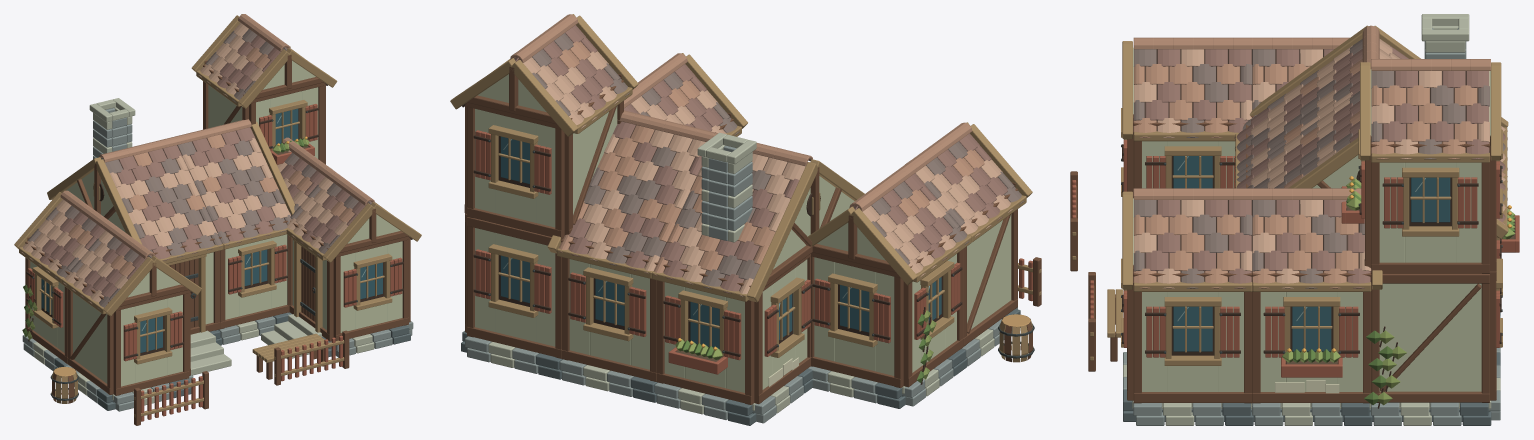
Rendered from family_cluster.glb.
3 renders of one model, left to right at view 1: azimuth 30°, elevation 25°; view 2: azimuth 150°, elevation 25°; view 3: azimuth 270°, elevation 25°, orthographic. The views are drawn at different scales.
Parts seen in each view (by area): view 1: family_cluster__062__roof_gable_4x2m__finish, family_cluster__063__roof_gable_4x2m__finish, family_cluster__067__roof_gable_2x2m__finish, family_cluster__074__roof_gable_2x2m__finish, family_cluster__066__roof_gable_2x2m__finish, family_cluster__070__roof_gable_2x2m__finish, family_cluster__036__wall_window_2m__finish, family_cluster__002__wall_window_2m__finish, family_cluster__036__wall_window_2m__structure, family_cluster__002__wall_window_2m__structure, family_cluster__028__wall_window_2m__finish, family_cluster__028__wall_window_2m__structure (+41 smaller); view 2: family_cluster__062__roof_gable_4x2m__finish, family_cluster__063__roof_gable_4x2m__finish, family_cluster__066__roof_gable_2x2m__finish, family_cluster__067__roof_gable_2x2m__finish, family_cluster__074__roof_gable_2x2m__finish, family_cluster__059__wall_window_2m__finish, family_cluster__010__wall_window_2m__finish, family_cluster__052__wall_window_2m__finish, family_cluster__052__wall_window_2m__structure, family_cluster__059__wall_window_2m__structure, family_cluster__032__wall_window_2m__finish, family_cluster__010__wall_window_2m__structure (+38 smaller); view 3: family_cluster__070__roof_gable_2x2m__finish, family_cluster__074__roof_gable_2x2m__finish, family_cluster__066__roof_gable_2x2m__finish, family_cluster__071__roof_gable_2x2m__finish, family_cluster__050__wall_plain_2m__finish, family_cluster__058__wall_window_2m__finish, family_cluster__038__wall_window_2m__finish, family_cluster__063__roof_gable_4x2m__finish, family_cluster__044__wall_window_2m__finish, family_cluster__058__wall_window_2m__structure, family_cluster__038__wall_window_2m__structure, family_cluster__044__wall_window_2m__structure (+35 smaller).
Part boxes in pixels (x1,y1,x2,y2): family_cluster__062__roof_gable_4x2m__finish: (174, 119, 290, 245); family_cluster__063__roof_gable_4x2m__finish: (99, 137, 221, 260); family_cluster__067__roof_gable_2x2m__finish: (20, 190, 109, 279); family_cluster__074__roof_gable_2x2m__finish: (198, 14, 290, 102); family_cluster__066__roof_gable_2x2m__finish: (63, 221, 155, 310); family_cluster__070__roof_gable_2x2m__finish: (287, 168, 374, 258); family_cluster__036__wall_window_2m__finish: (340, 241, 402, 332); family_cluster__002__wall_window_2m__finish: (121, 295, 182, 386); family_cluster__036__wall_window_2m__structure: (333, 236, 408, 340); family_cluster__002__wall_window_2m__structure: (113, 290, 189, 395); family_cluster__028__wall_window_2m__finish: (225, 234, 287, 319); family_cluster__028__wall_window_2m__structure: (219, 220, 289, 329); family_cluster__062__roof_gable_4x2m__finish: (559, 110, 715, 273); family_cluster__063__roof_gable_4x2m__finish: (654, 133, 812, 296); family_cluster__066__roof_gable_2x2m__finish: (908, 122, 1024, 237); family_cluster__067__roof_gable_2x2m__finish: (849, 163, 969, 277); family_cluster__074__roof_gable_2x2m__finish: (510, 14, 629, 128); family_cluster__059__wall_window_2m__finish: (475, 109, 555, 227); family_cluster__010__wall_window_2m__finish: (814, 257, 894, 375); family_cluster__052__wall_window_2m__finish: (475, 228, 555, 346); family_cluster__052__wall_window_2m__structure: (467, 217, 562, 358); family_cluster__059__wall_window_2m__structure: (467, 102, 564, 239); family_cluster__032__wall_window_2m__finish: (569, 259, 649, 369); family_cluster__010__wall_window_2m__structure: (811, 252, 903, 388); family_cluster__070__roof_gable_2x2m__finish: (1133, 188, 1252, 288); family_cluster__074__roof_gable_2x2m__finish: (1371, 59, 1490, 159); family_cluster__066__roof_gable_2x2m__finish: (1133, 37, 1252, 137); family_cluster__071__roof_gable_2x2m__finish: (1252, 188, 1371, 288); family_cluster__050__wall_plain_2m__finish: (1379, 283, 1481, 391); family_cluster__058__wall_window_2m__finish: (1379, 162, 1481, 262); family_cluster__038__wall_window_2m__finish: (1142, 292, 1243, 391); family_cluster__063__roof_gable_4x2m__finish: (1234, 25, 1507, 177); family_cluster__044__wall_window_2m__finish: (1260, 292, 1362, 391); family_cluster__058__wall_window_2m__structure: (1371, 142, 1489, 273); family_cluster__038__wall_window_2m__structure: (1133, 271, 1252, 403); family_cluster__044__wall_window_2m__structure: (1252, 271, 1371, 403).
Bounding box in the file's own units: 9.53 × 6.27 × 7.56.
